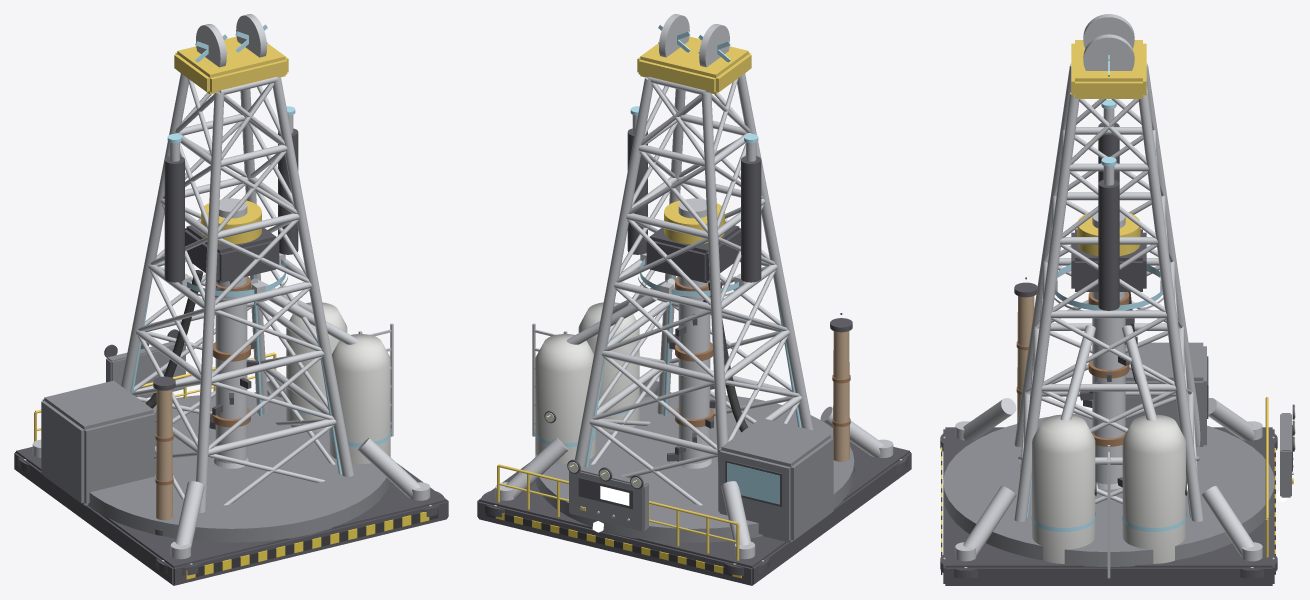
File: drill_3.fbx
3 renders of one model, left to right at view 1: azimuth 30°, elevation 25°; view 2: azimuth 150°, elevation 25°; view 3: azimuth 270°, elevation 25°, orthographic. The views are drawn at different scales.
Parts seen in each view (by area): view 1: drill_3, Drill_Y_Stem, Spin_X_Sheave0, Spin_X_Sheave1, Spin_Y_Head; view 2: drill_3, Drill_Y_Stem, Spin_X_Sheave0, Spin_X_Sheave1, Spin_Y_Head; view 3: drill_3, Drill_Y_Stem, Spin_X_Sheave1, Spin_X_Sheave0, Spin_Y_Head.
Boxes of the visible parts, x1,y1,x2,y2 form: drill_3: (14, 36, 448, 585); Drill_Y_Stem: (209, 198, 258, 468); Spin_X_Sheave0: (195, 24, 227, 67); Spin_X_Sheave1: (235, 14, 267, 57); Spin_Y_Head: (178, 253, 287, 300); drill_3: (477, 36, 911, 585); Drill_Y_Stem: (667, 198, 721, 468); Spin_X_Sheave0: (698, 24, 730, 67); Spin_X_Sheave1: (658, 14, 690, 57); Spin_Y_Head: (638, 253, 747, 300); drill_3: (940, 40, 1295, 585); Drill_Y_Stem: (1080, 212, 1137, 489); Spin_X_Sheave1: (1083, 34, 1134, 76); Spin_X_Sheave0: (1083, 14, 1134, 48); Spin_Y_Head: (1054, 264, 1163, 310).
Bounding box in the file's own units: 4.87 × 7.19 × 4.72.
